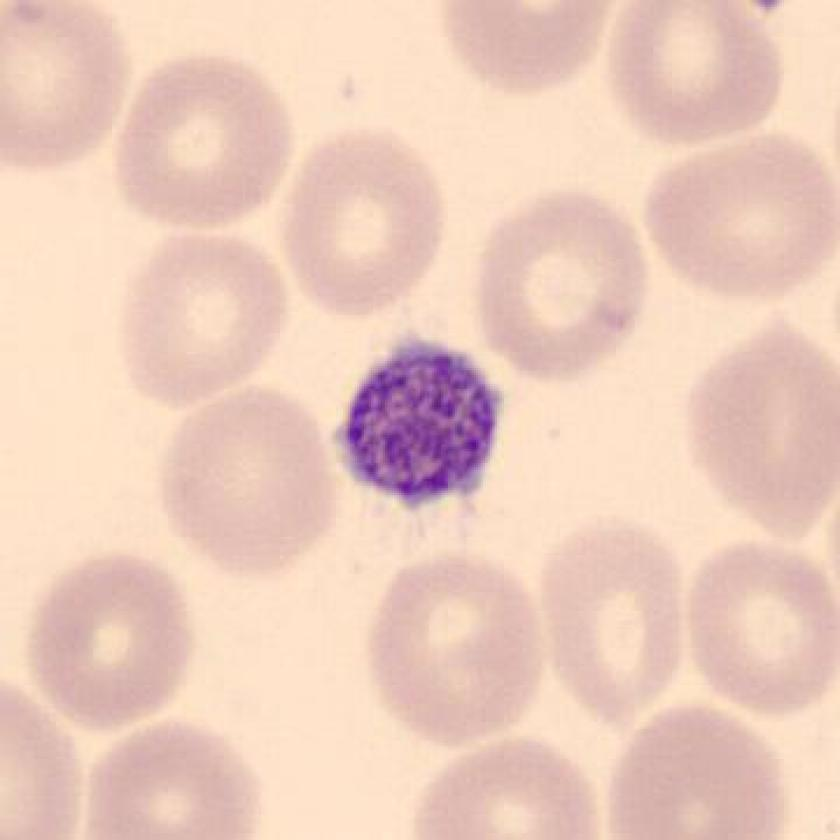platelets: (330, 332, 519, 517)
